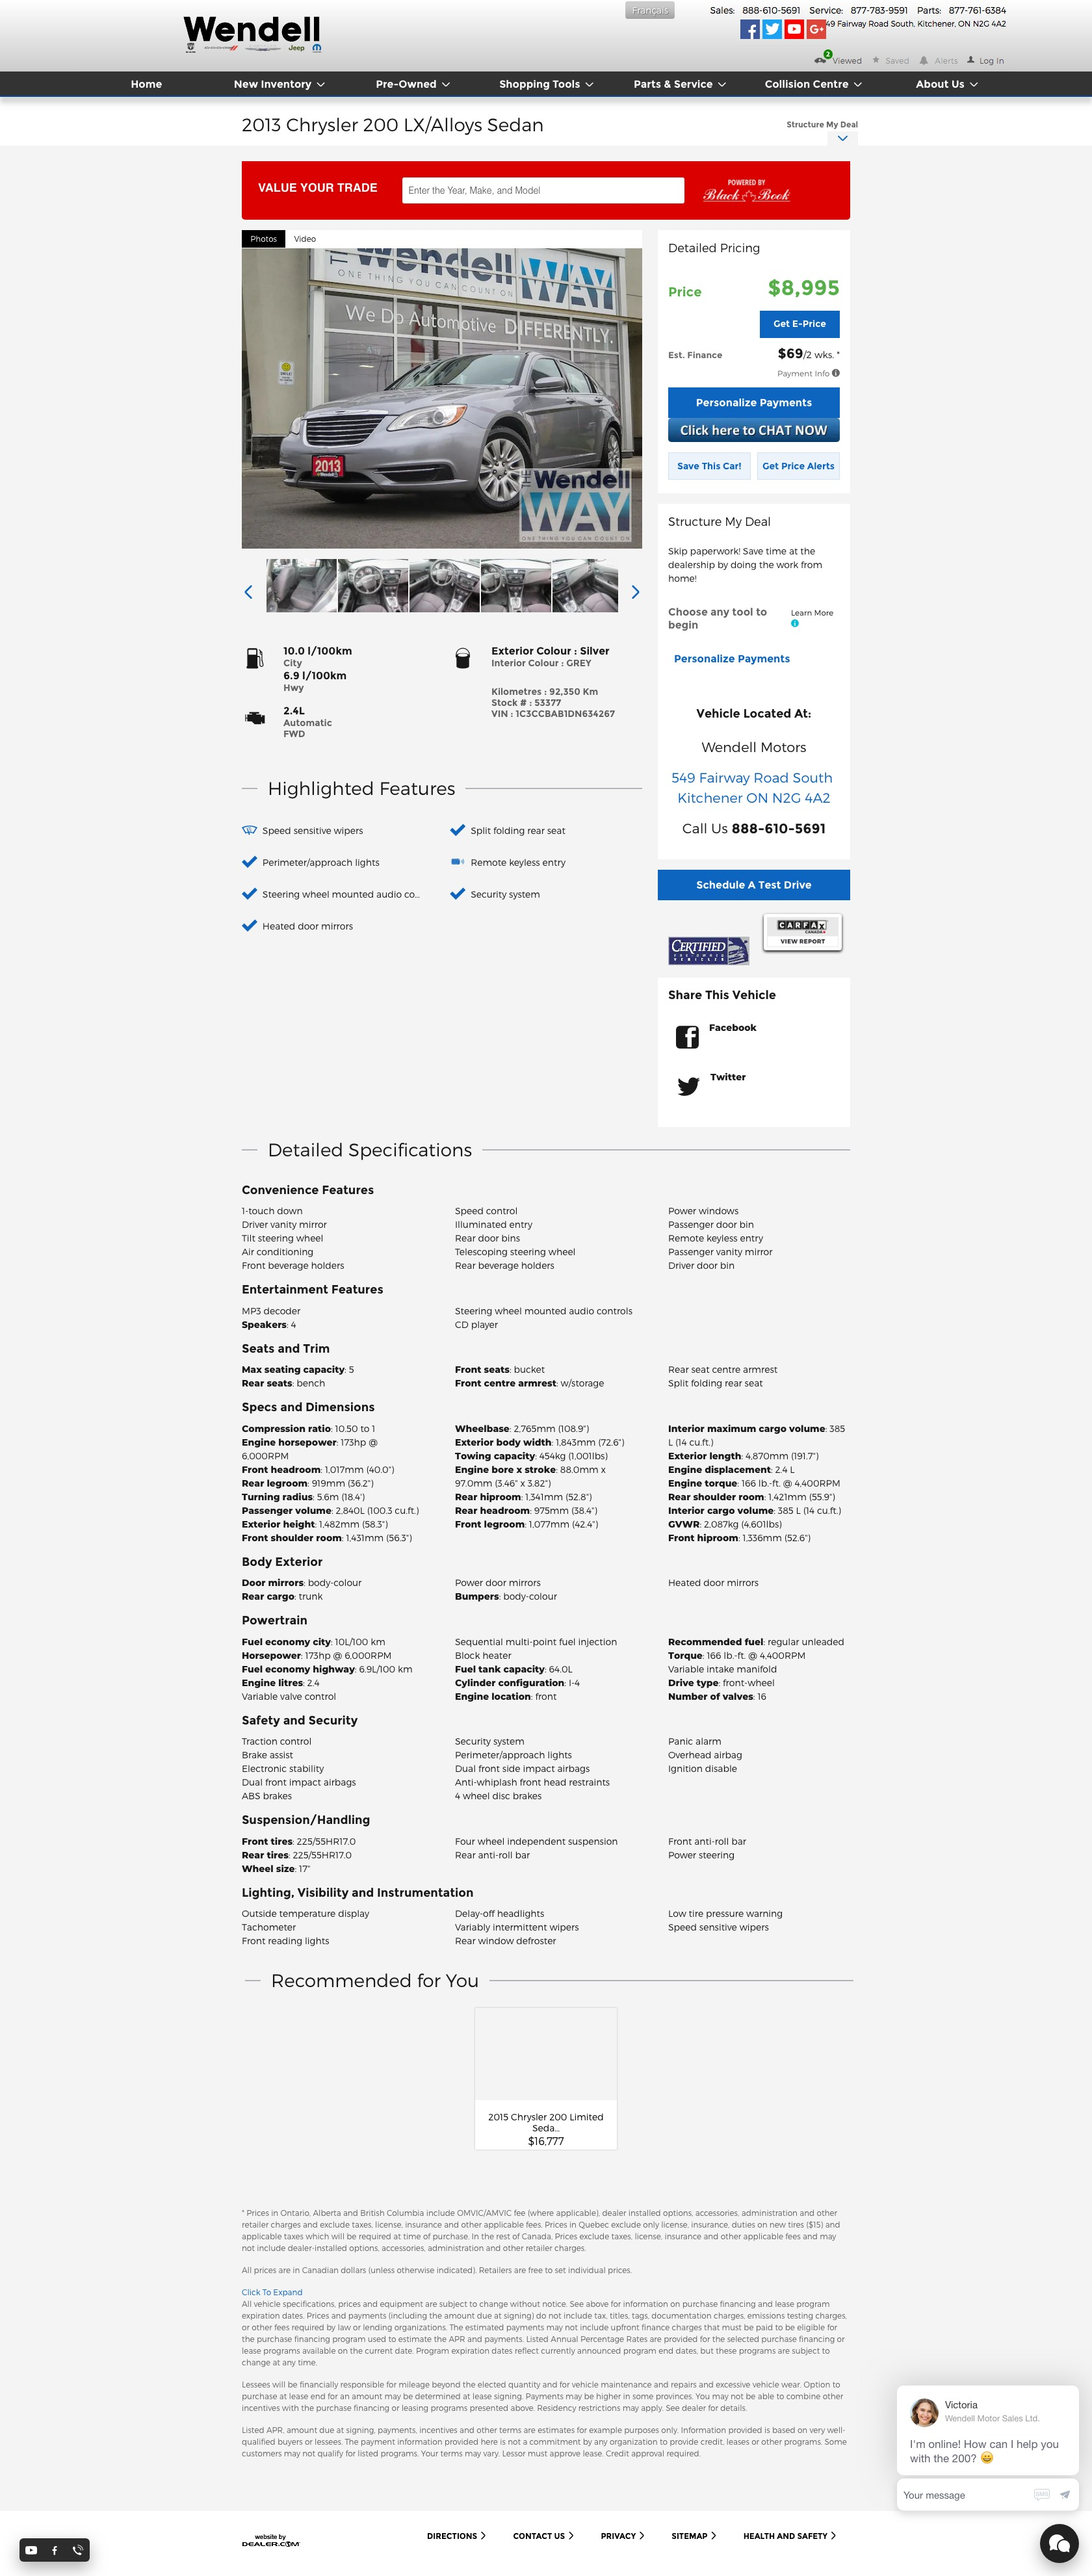car: (629, 583, 642, 601)
